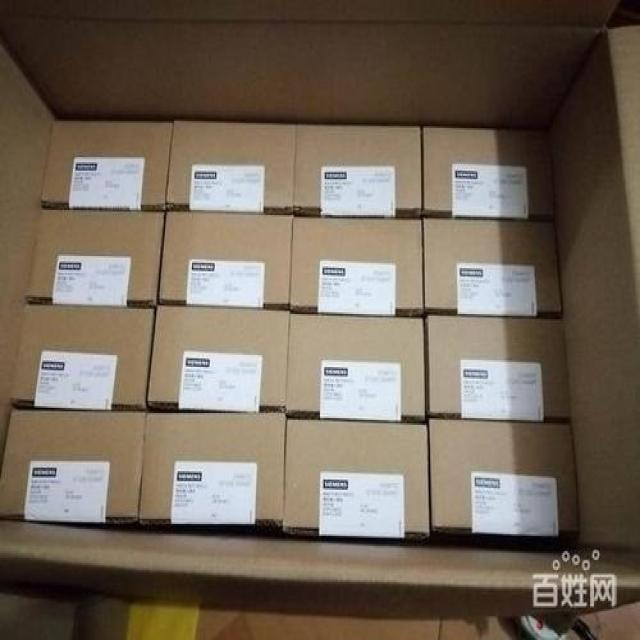box: (429, 418, 579, 546), (283, 418, 431, 541), (138, 411, 287, 527), (145, 304, 291, 413), (13, 302, 156, 408), (426, 316, 571, 420), (288, 311, 426, 420), (24, 205, 166, 304), (157, 210, 294, 307), (425, 218, 563, 314), (289, 217, 424, 314), (293, 121, 424, 217), (40, 119, 174, 212), (421, 125, 554, 218), (165, 119, 296, 213)
